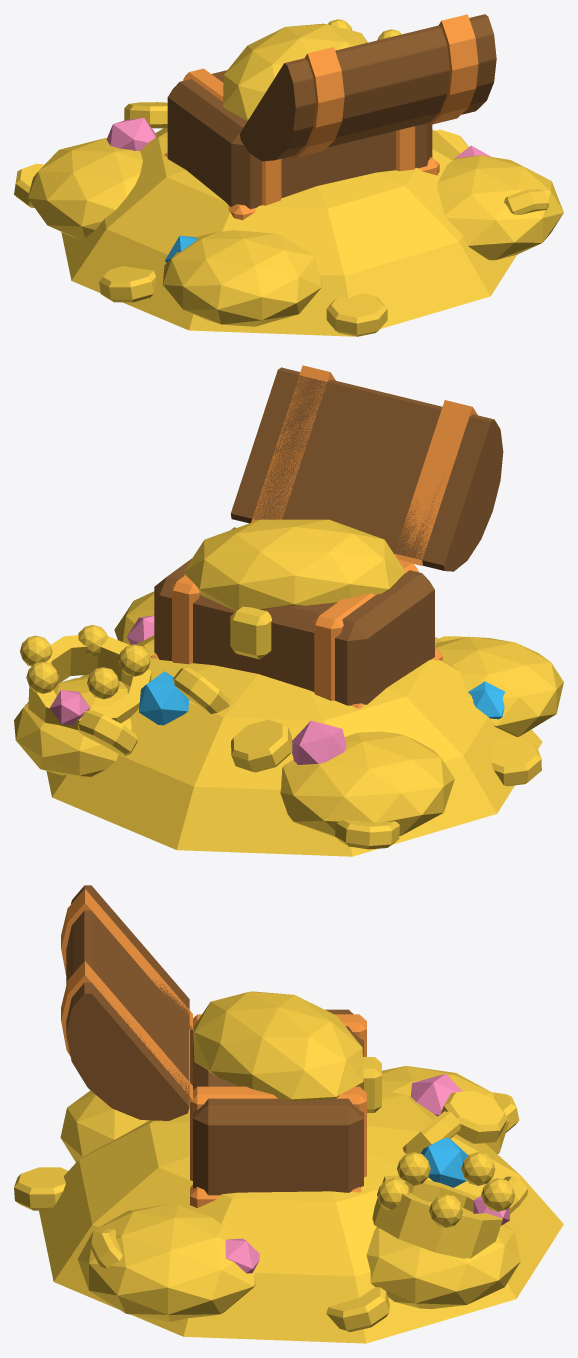
File: Prop_pirate_harbor_TreasurePile.glb
3 renders of one model, top to bottom at view 1: azimuth 30°, elevation 25°; view 2: azimuth 150°, elevation 25°; view 3: azimuth 270°, elevation 25°, orthographic. The views are drawn at different scales.
Visible parts, largest first — view 1: Gold_FFD23F, WoodDark_8A5A2B, HarborOrange_FF9A3D, GemPink_FF8FC0; view 2: Gold_FFD23F, WoodDark_8A5A2B, HarborOrange_FF9A3D, GemPink_FF8FC0, GemBlue_38BDF8; view 3: Gold_FFD23F, WoodDark_8A5A2B, HarborOrange_FF9A3D, GemPink_FF8FC0, GemBlue_38BDF8.
Part boxes in pixels (x1,y1,x2,y2): Gold_FFD23F: (14,19,563,336); WoodDark_8A5A2B: (167,14,496,209); HarborOrange_FF9A3D: (164,14,478,220); GemPink_FF8FC0: (106,117,491,158); Gold_FFD23F: (14,519,563,856); WoodDark_8A5A2B: (154,367,503,705); HarborOrange_FF9A3D: (151,365,477,708); GemPink_FF8FC0: (49,615,346,764); GemBlue_38BDF8: (139,671,504,725); Gold_FFD23F: (14,991,563,1343); WoodDark_8A5A2B: (66,885,363,1195); HarborOrange_FF9A3D: (61,889,366,1207); GemPink_FF8FC0: (225,1073,509,1273); GemBlue_38BDF8: (421,1137,468,1187).
Size of the model in its own units: 8.68 by 5.52 by 9.02.
